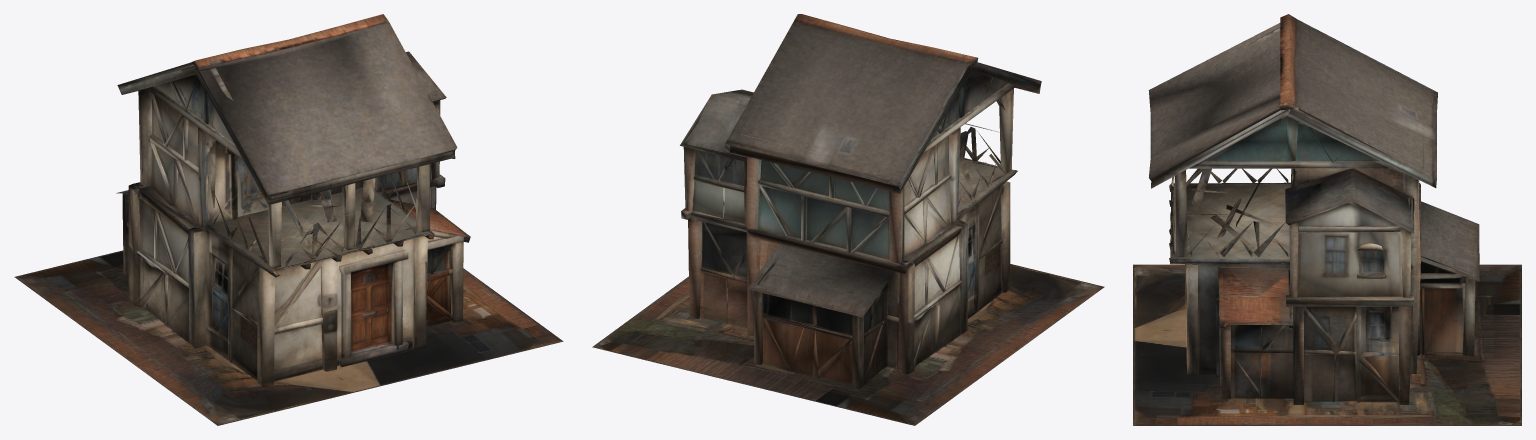
The model's file is house2.glb.
3 views of the same model, side by side, from view 1: azimuth 30°, elevation 25°; view 2: azimuth 150°, elevation 25°; view 3: azimuth 270°, elevation 25° (orthographic). The views are drawn at different scales.
Bounding box in the file's own units: 1.96 × 1.59 × 2.
1 material, 1 textured.
